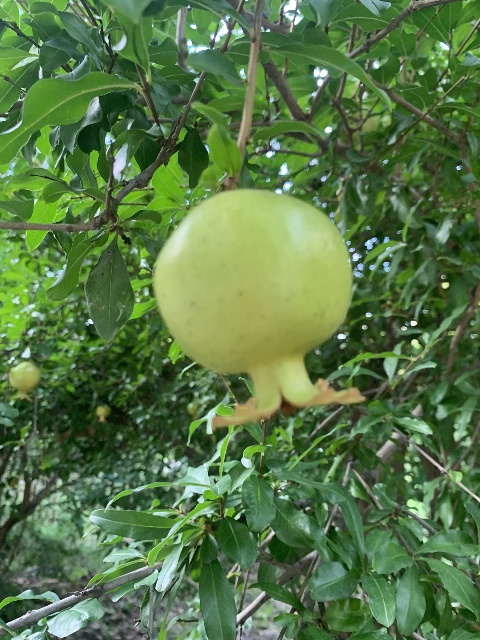mid-growth: (153, 189, 367, 428), (7, 359, 40, 402)
